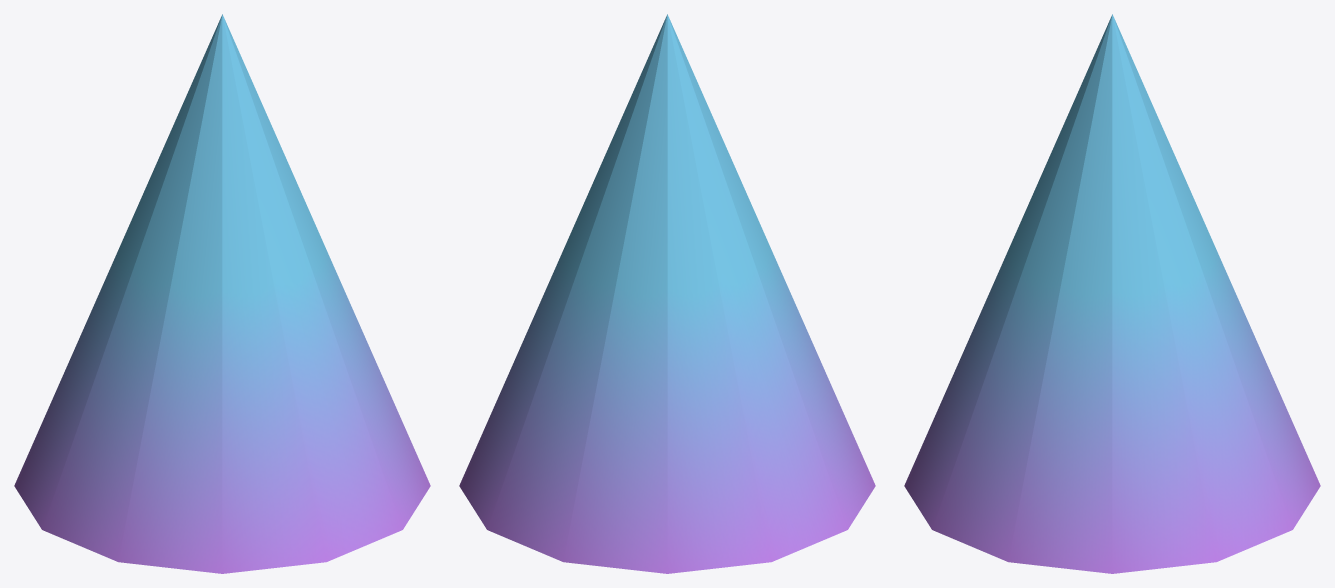
File: Icicle.fbx
The picture shows the model from 3 angles, left to right: view 1: azimuth 30°, elevation 25°; view 2: azimuth 150°, elevation 25°; view 3: azimuth 270°, elevation 25°; orthographic projection.
Parts seen in each view (by area): view 1: Icicle; view 2: Icicle; view 3: Icicle.
Boxes of the visible parts, box(x1,y1,x2,y2) form: Icicle: box(14, 14, 430, 573); Icicle: box(459, 14, 875, 573); Icicle: box(904, 14, 1320, 573).
Size of the model in its own units: 20 by 25 by 20.
Materials: 1 (1 with a texture image).
